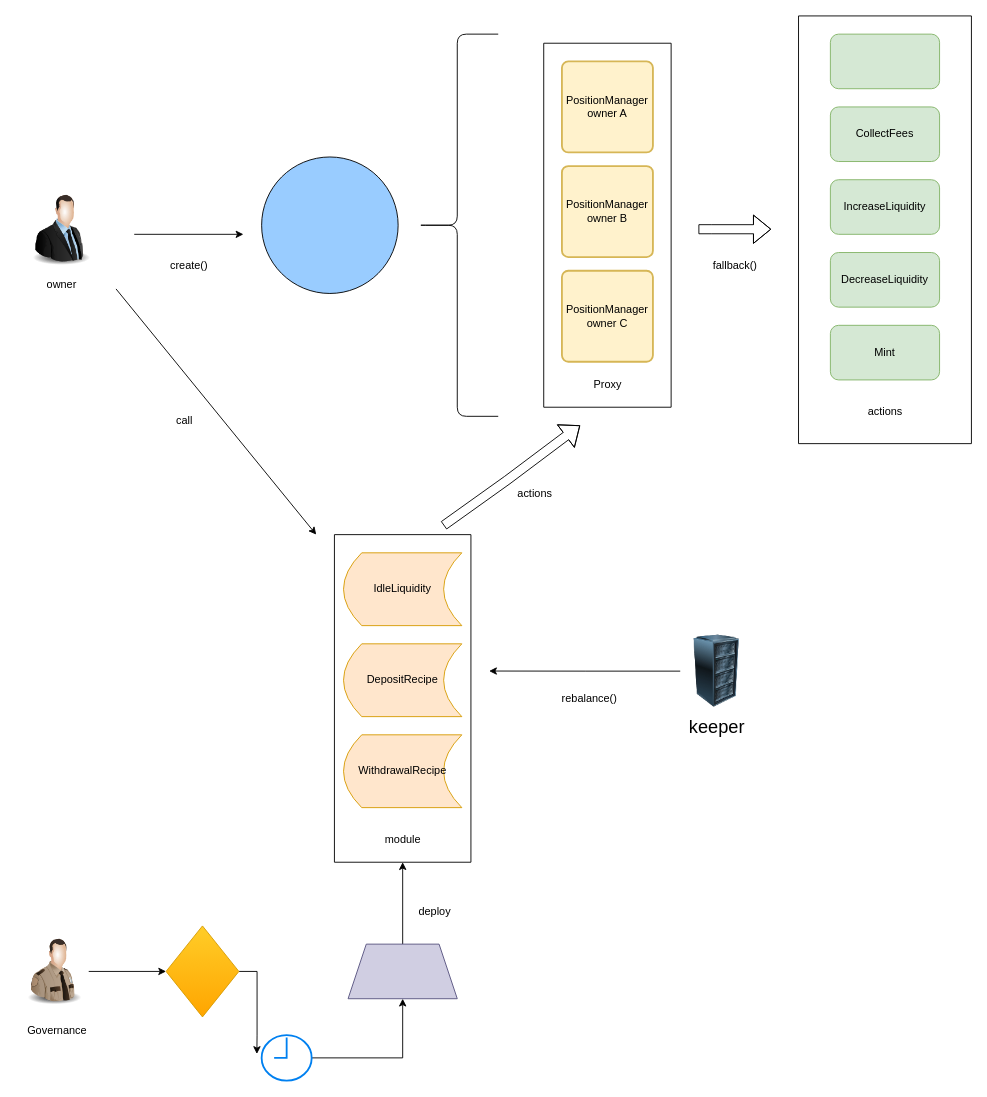
The diagram is 987 pixels wide and 1097 high, and some of its shapes have lost their labels. Here are the shapes that lost their labels. From the top down, the box of each, then its label:
(829, 33, 940, 89): ClosePosition
(261, 156, 398, 293): PositionManagerFactory
(165, 925, 239, 1017): Timelock
(347, 943, 457, 999): Registry
